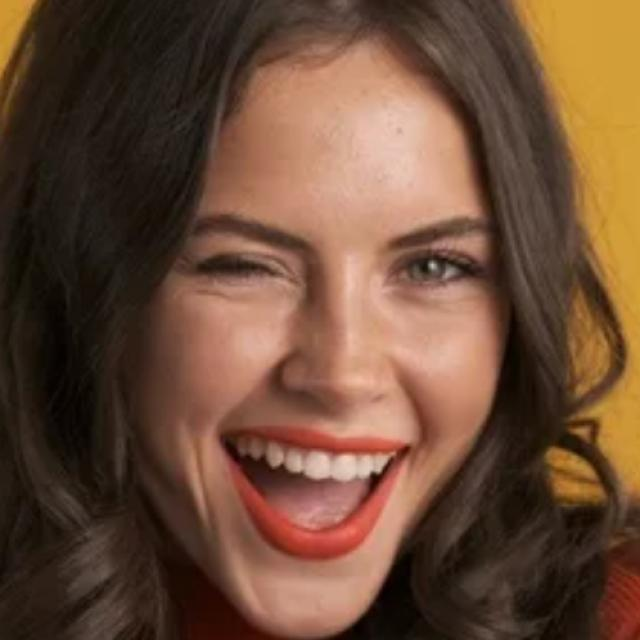close: (157, 195, 346, 314)
